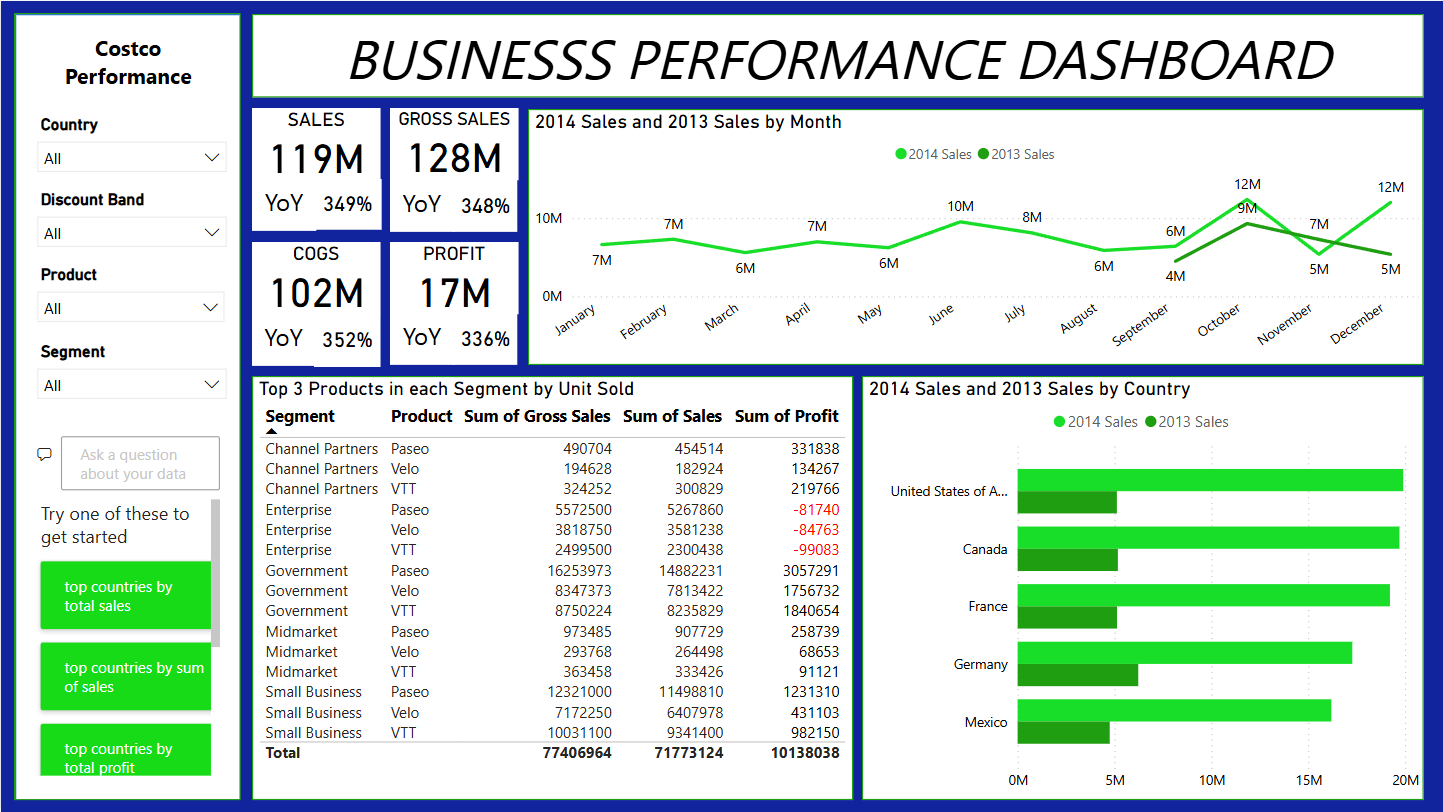

What the dashboard file says about the page in this screenshot:
{"tool":"powerbi","page":{"name":"Business Performance","canvas":[1280,720],"ordinal":0},"visuals":[{"type":"shape","box":[11.9,10.7,201.2,697.6],"z":0},{"type":"card","title":"SALES","fields":{"Values":["Sum(financials. Sales)"]},"box":[222.9,95,113.8,63.8],"z":0,"group":"g1"},{"type":"card","title":"GROSS SALES","fields":{"Values":["Sum(financials.Gross Sales)"]},"box":[345,95,113.8,63.8],"z":0,"group":"g2"},{"type":"card","title":"COGS","fields":{"Values":["Sum(financials.COGS)"]},"box":[222.5,213.5,113.8,63.8],"z":0,"group":"g3"},{"type":"card","title":"PROFIT","fields":{"Values":["Sum(financials.Profit)"]},"box":[345,213.7,113.8,63.8],"z":0,"group":"g4"},{"type":"textbox","box":[222.5,11.2,1038.8,73.8],"z":1000},{"type":"card","title":"SALES","fields":{"Values":["financials. Sales YoY%"]},"box":[277.6,158.1,59.5,45.2],"z":1000,"group":"g1"},{"type":"card","title":"SALES","fields":{"Values":["financials.Gross Sales YoY%"]},"box":[401.1,158.5,57.4,46.1],"z":1000,"group":"g2"},{"type":"card","title":"SALES","fields":{"Values":["financials.Profit YoY%"]},"box":[401,276.8,57.1,46.4],"z":1000,"group":"g4"},{"type":"card","title":"SALES","fields":{"Values":["financials.COGS YoY%"]},"box":[277.5,277,58.8,46.8],"z":1000,"group":"g3"},{"type":"group","id":"g1","title":"Group 3","box":[222.8,95,114.3,109],"z":2000},{"type":"textbox","box":[222.8,158,56.9,46],"z":2000,"group":"g1"},{"type":"textbox","box":[345,158.5,56.5,46.1],"z":2000,"group":"g2"},{"type":"textbox","box":[345,276.7,56.9,46],"z":2000,"group":"g4"},{"type":"textbox","box":[222.5,277,56.1,46.1],"z":2000,"group":"g3"},{"type":"textbox","box":[22.5,23.8,181.2,61.2],"z":3000},{"type":"group","id":"g2","title":"Group 1","box":[345,95,113.8,109.6],"z":4000},{"type":"group","id":"g3","title":"Group 4","box":[222.5,213.5,113.8,110.2],"z":5000},{"type":"group","id":"g4","title":"Group 2","box":[345,213.7,113.8,109.5],"z":6000},{"type":"lineChart","fields":{"Category":["financials.Date.Variation.Date Hierarchy.Month"],"Y":["financials.2014 Sales","financials.2013 Sales"]},"box":[467.1,95.7,794.3,227.1],"z":7000},{"type":"tableEx","title":"Top 3 Products in each Segment by Unit Sold","fields":{"Values":["financials.Segment","financials.Product","Sum(financials.Gross Sales)","Sum(financials. Sales)","Sum(financials.Profit)"]},"box":[222.5,332.5,532.5,376.2],"z":8000},{"type":"clusteredBarChart","fields":{"Category":["financials.Country"],"Y":["financials.2014 Sales","financials.2013 Sales"]},"box":[763.8,332.5,497.5,376.2],"z":9000},{"type":"slicer","fields":{"Values":["financials.Country"]},"box":[22.4,96.5,187.6,62.4],"z":10000},{"type":"slicer","fields":{"Values":["financials.Discount Band"]},"box":[22.4,163.5,187.6,62.9],"z":11000},{"type":"slicer","fields":{"Values":["financials.Product"]},"box":[22.5,230,186.2,62.5],"z":12000},{"type":"slicer","fields":{"Values":["financials.Segment"]},"box":[22.5,297.5,187.5,62.5],"z":13000}]}

Visuals, with their boxes in screenshot pixels (x1, y1, x2, y2), scaled from the page's 1280x720 canvas onto the 1443x812 screenshot:
shape: (13,12,240,799)
"SALES" card: (251,107,380,179)
"GROSS SALES" card: (389,107,517,179)
"COGS" card: (251,241,379,313)
"PROFIT" card: (389,241,517,313)
textbox: (251,13,1422,96)
"SALES" card: (313,178,380,229)
"SALES" card: (452,179,517,231)
"SALES" card: (452,312,516,364)
"SALES" card: (313,312,379,365)
"Group 3" group: (251,107,380,230)
textbox: (251,178,315,230)
textbox: (389,179,453,231)
textbox: (389,312,453,364)
textbox: (251,312,314,364)
textbox: (25,27,230,96)
"Group 1" group: (389,107,517,231)
"Group 4" group: (251,241,379,365)
"Group 2" group: (389,241,517,364)
lineChart - financials.Date.Variation.Date Hierarchy.Month x financials.2014 Sales: (527,108,1422,364)
"Top 3 Products in each Segment by Unit Sold" tableEx: (251,375,851,799)
clusteredBarChart - financials.Country x financials.2014 Sales: (861,375,1422,799)
slicer - financials.Country: (25,109,237,179)
slicer - financials.Discount Band: (25,184,237,255)
slicer - financials.Product: (25,259,235,330)
slicer - financials.Segment: (25,336,237,406)
